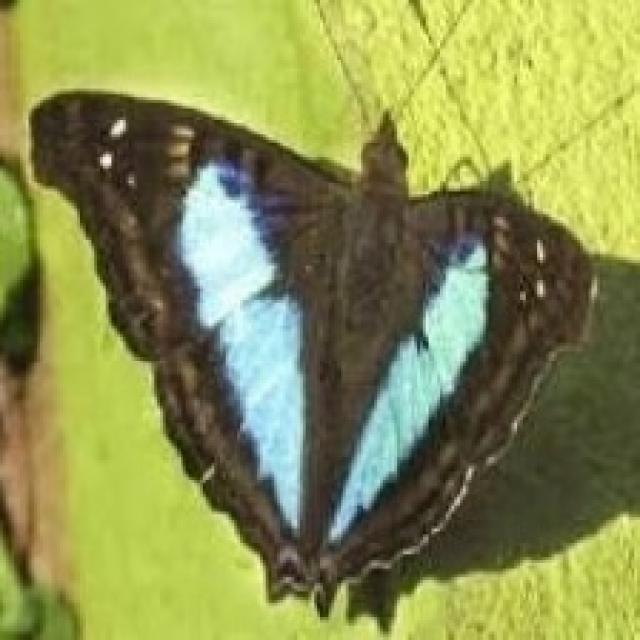butterfly: (23, 0, 631, 620)
